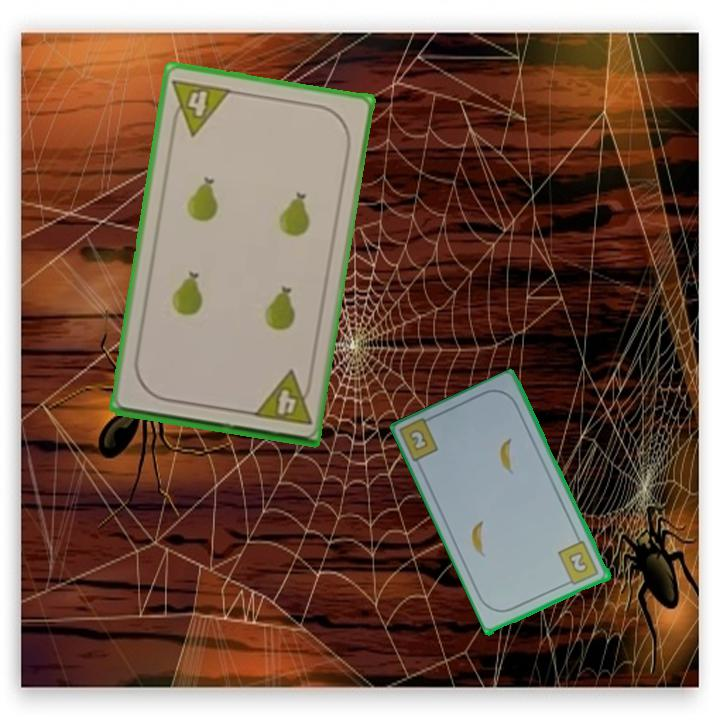2b: (555, 538, 602, 589), (405, 426, 431, 454)
4p: (166, 75, 234, 139), (249, 367, 315, 428)
